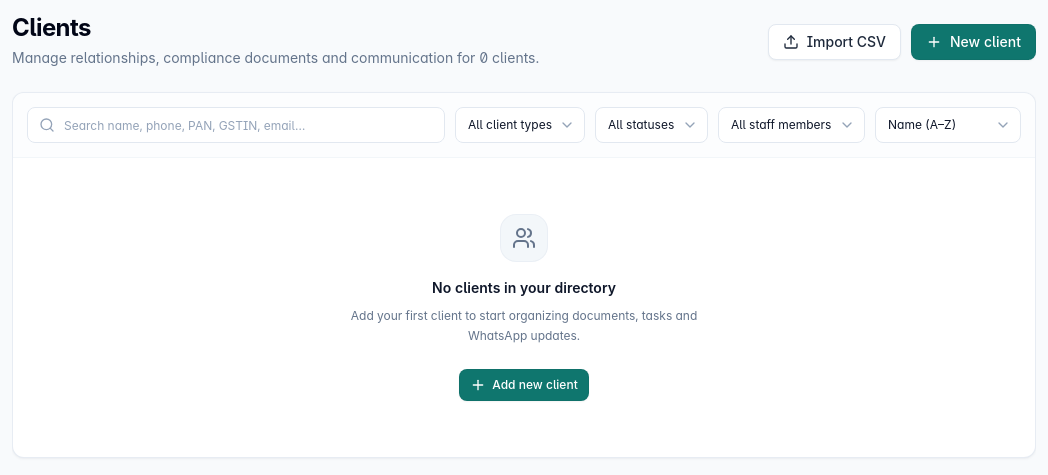
Test case: Clients › searches clients server-side
In the field named "Search clients": [236, 125] box top-left (27, 107), bottom-right (445, 143), type "Rahul"
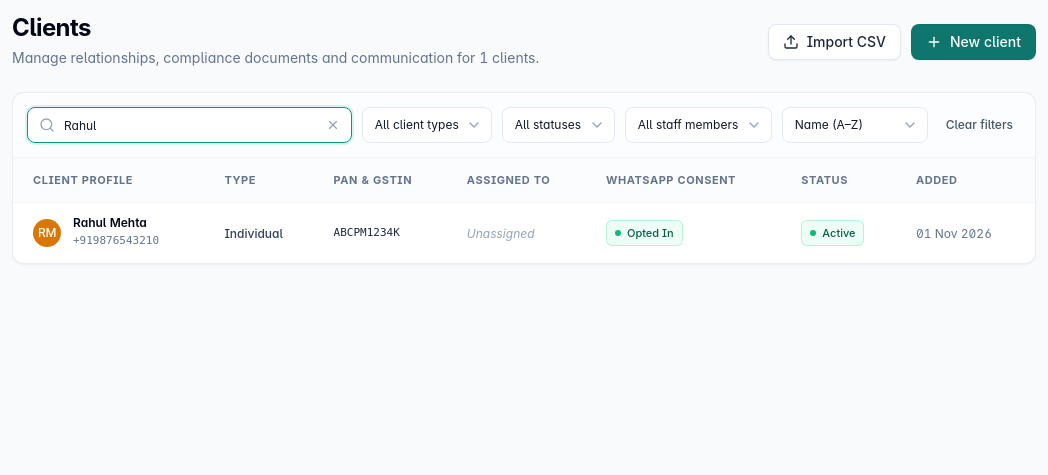
expect the text "Rahul Mehta" is shown: met, box top-left (73, 215), bottom-right (159, 231)
